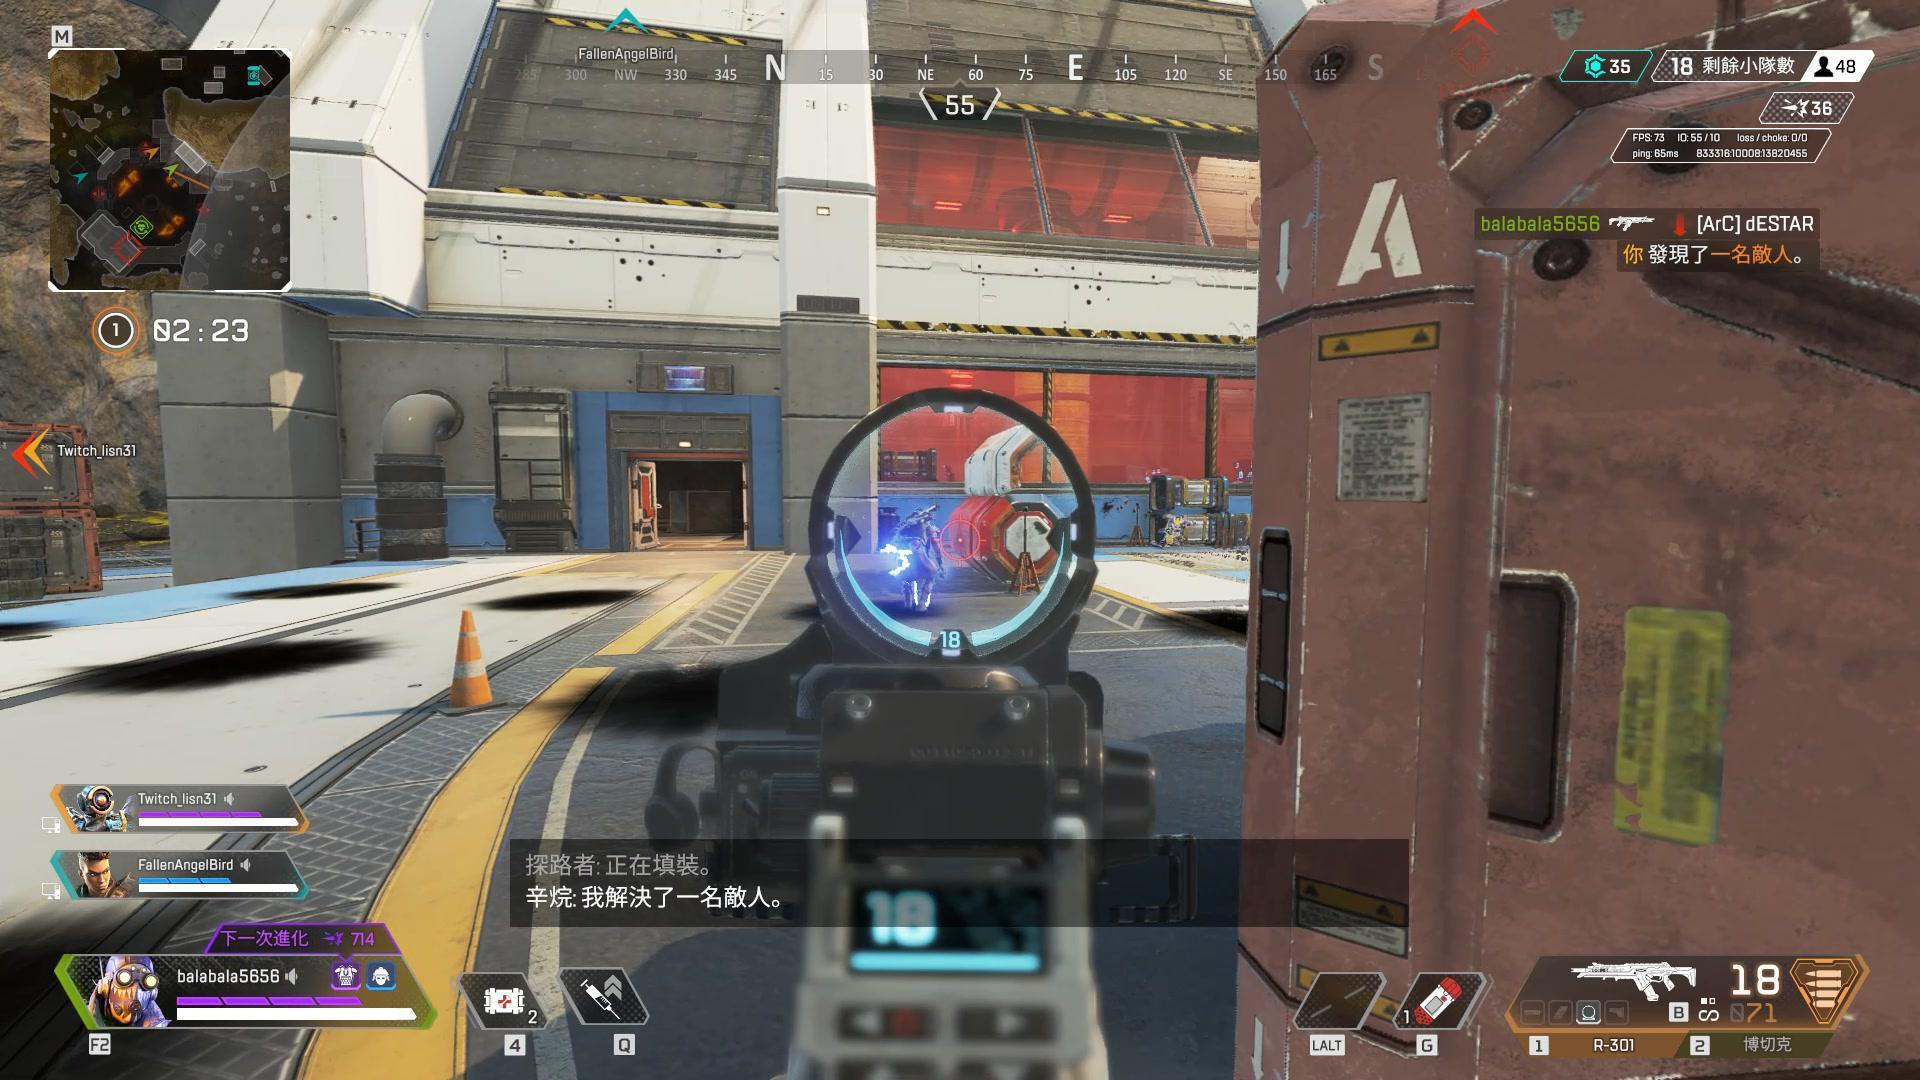avatar: (888, 504, 947, 614)
